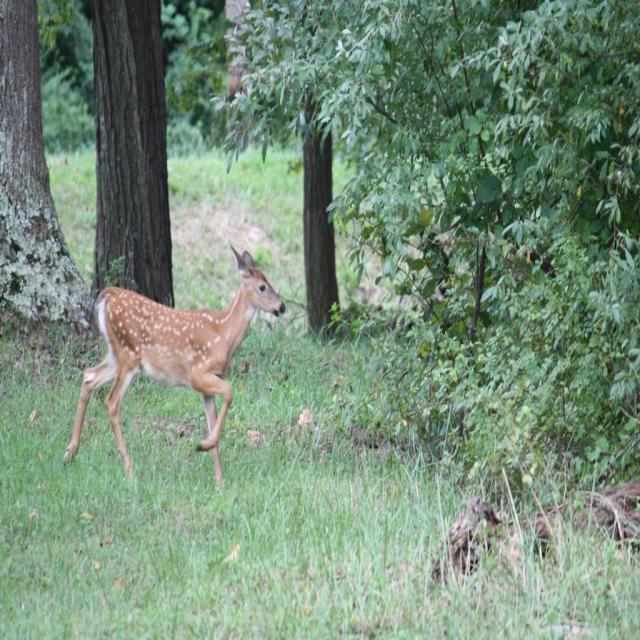Deer: (64, 244, 284, 497)
